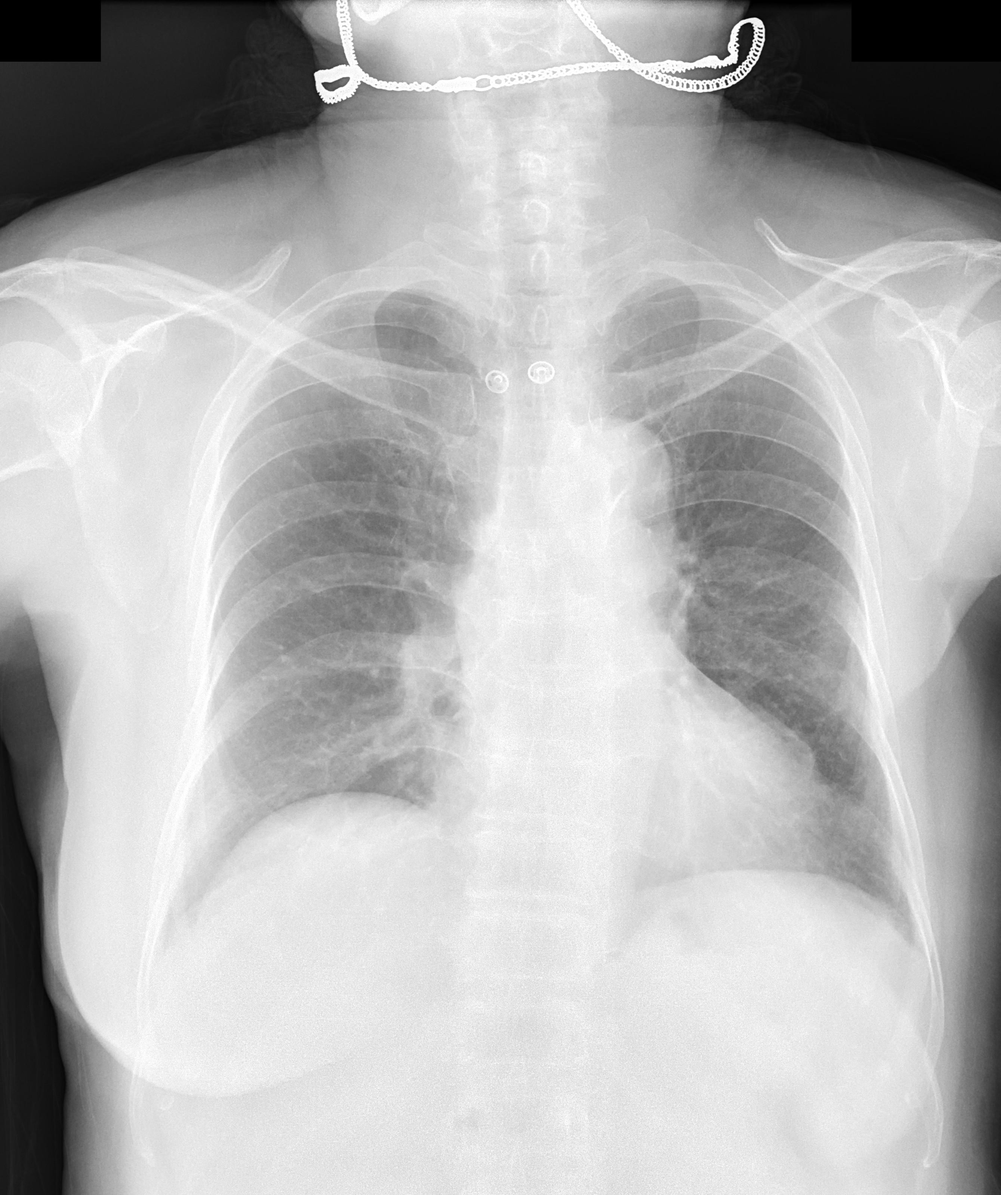Aortic enlargement: (541, 415, 675, 549)
Cardiomegaly: (422, 711, 837, 877)
